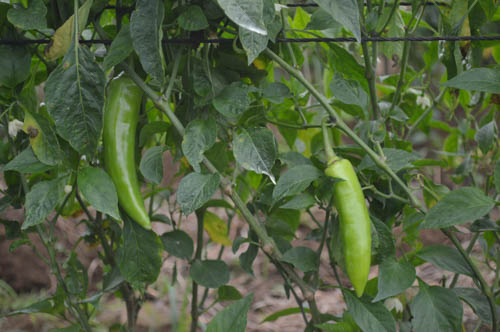ChiliPepper: (104, 79, 156, 229), (328, 157, 375, 295)
